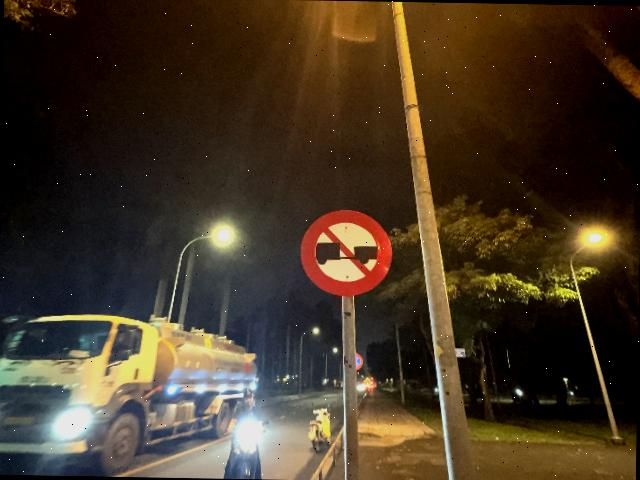cam-xe-somi-romooc: (298, 208, 392, 298)
